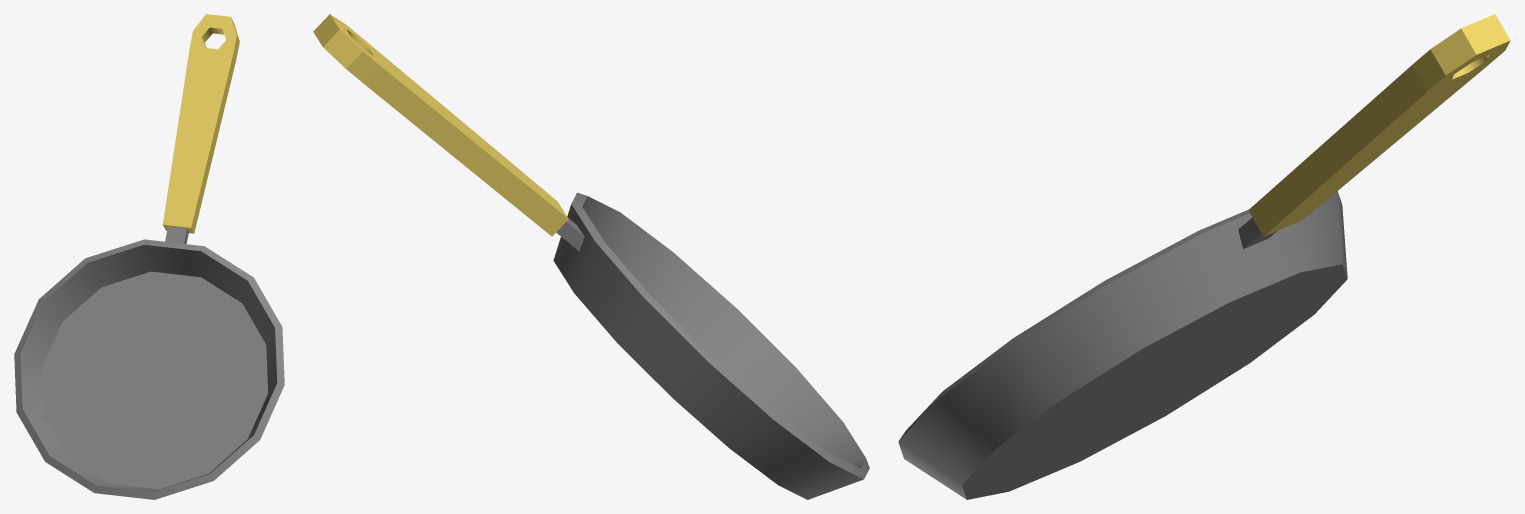
File: icon2.FBX
3 renders of one model, left to right at view 1: azimuth 30°, elevation 25°; view 2: azimuth 150°, elevation 25°; view 3: azimuth 270°, elevation 25°, orthographic. The views are drawn at different scales.
Visible parts, largest first — view 1: Cylinder001, Box002; view 2: Cylinder001, Box002; view 3: Cylinder001, Box002.
Part boxes in pixels (box(x1,y1,x2,y2)): Cylinder001: box(14, 226, 284, 499); Box002: box(162, 14, 239, 233); Cylinder001: box(553, 192, 869, 499); Box002: box(313, 14, 568, 236); Cylinder001: box(898, 191, 1347, 499); Box002: box(1248, 14, 1510, 236).
Size of the model in its own units: 4.14 by 4.78 by 4.16.
